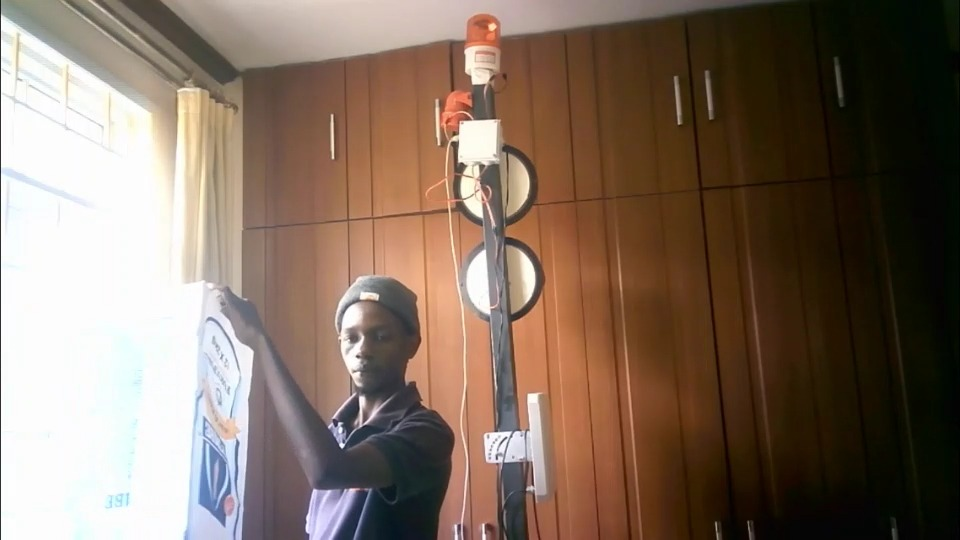wheat_flour_blue_label: (144, 278, 244, 527)
